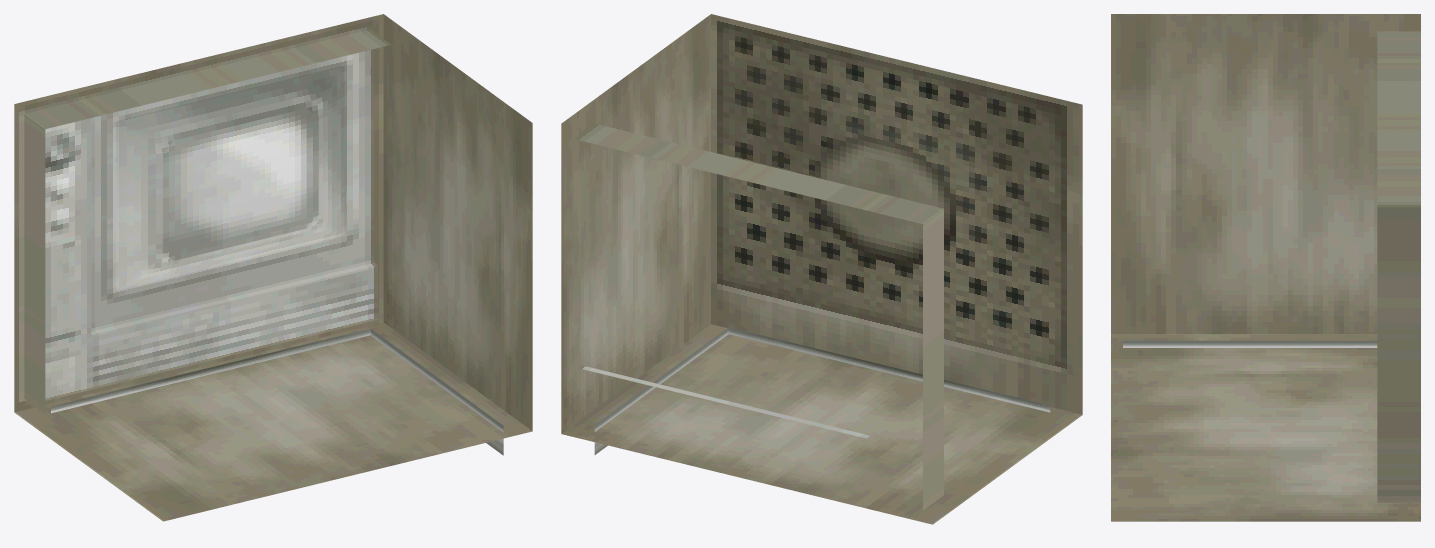
File: ps2_save-icons_boukenshounenclubgahou.glb
3 renders of one model, left to right at view 1: azimuth 30°, elevation 25°; view 2: azimuth 150°, elevation 25°; view 3: azimuth 270°, elevation 25°, orthographic. The views are drawn at different scales.
Visible parts, largest first — view 1: tv.ico; view 2: tv.ico; view 3: tv.ico.
Part boxes in pixels (bbox=[...]): tv.ico: bbox=[14, 14, 532, 521]; tv.ico: bbox=[561, 14, 1082, 524]; tv.ico: bbox=[1111, 14, 1420, 521].
Size of the model in its own units: 2.55 by 2.18 by 1.78.
1 material, 1 textured.
